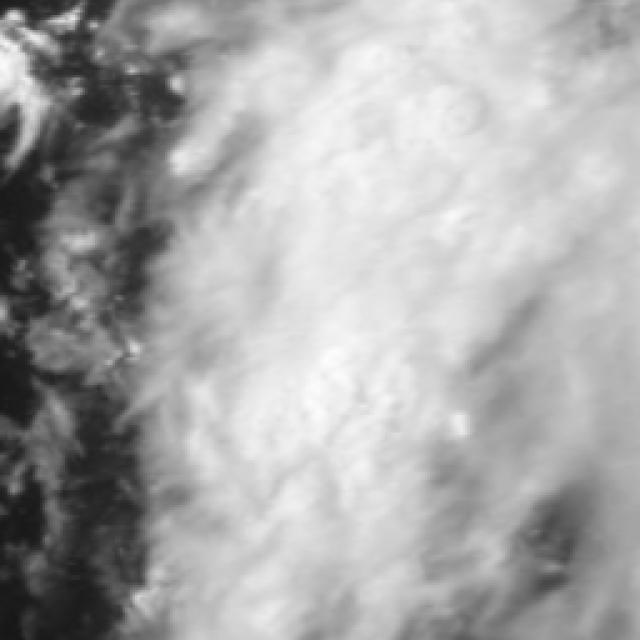CB: (270, 108, 430, 570), (359, 60, 640, 222)
